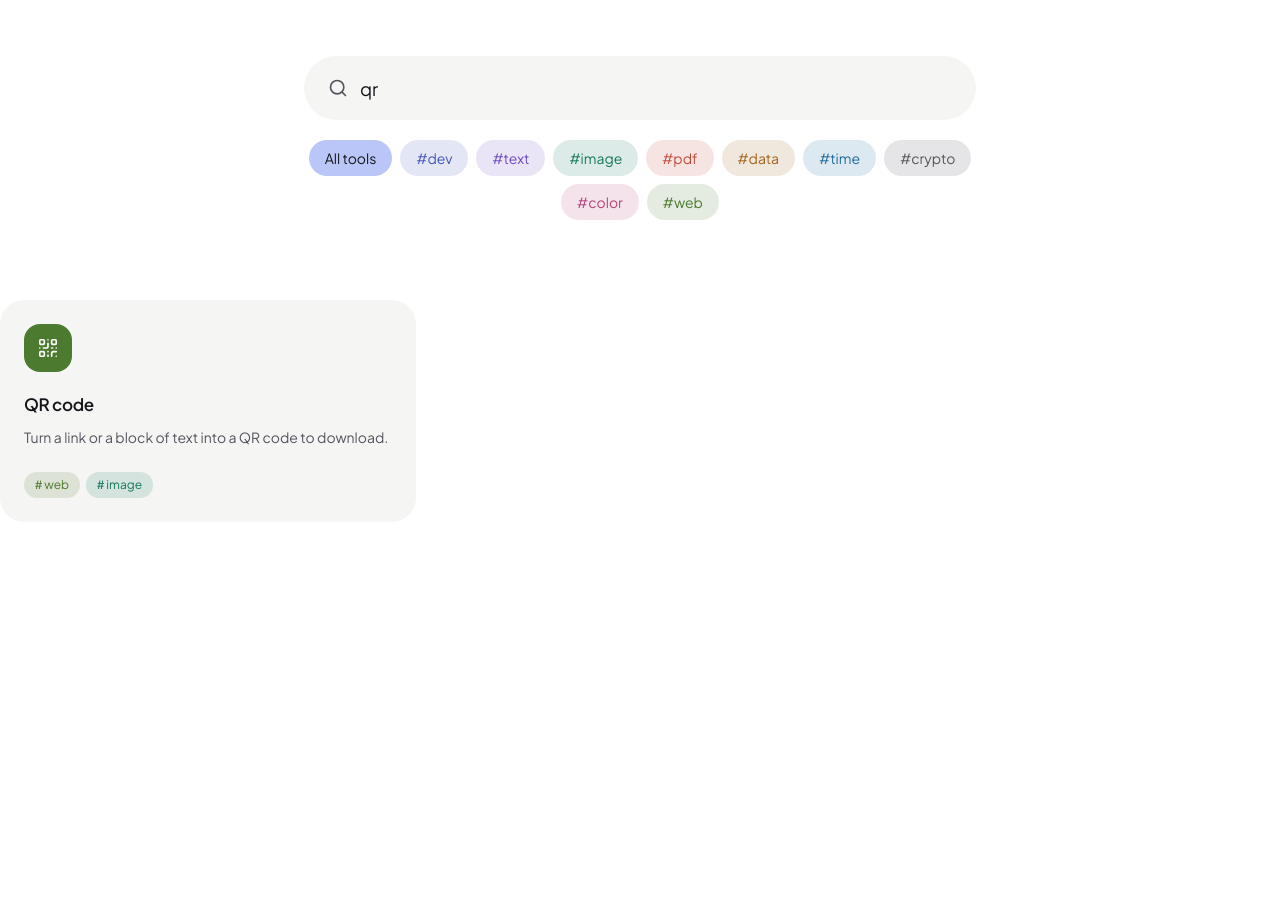
Test: <ToolExplorer /> › should clear the filter when the field is emptied and committed
Clear the dropdown named "Search tools": (640, 88) left=304, top=56, right=976, bottom=120
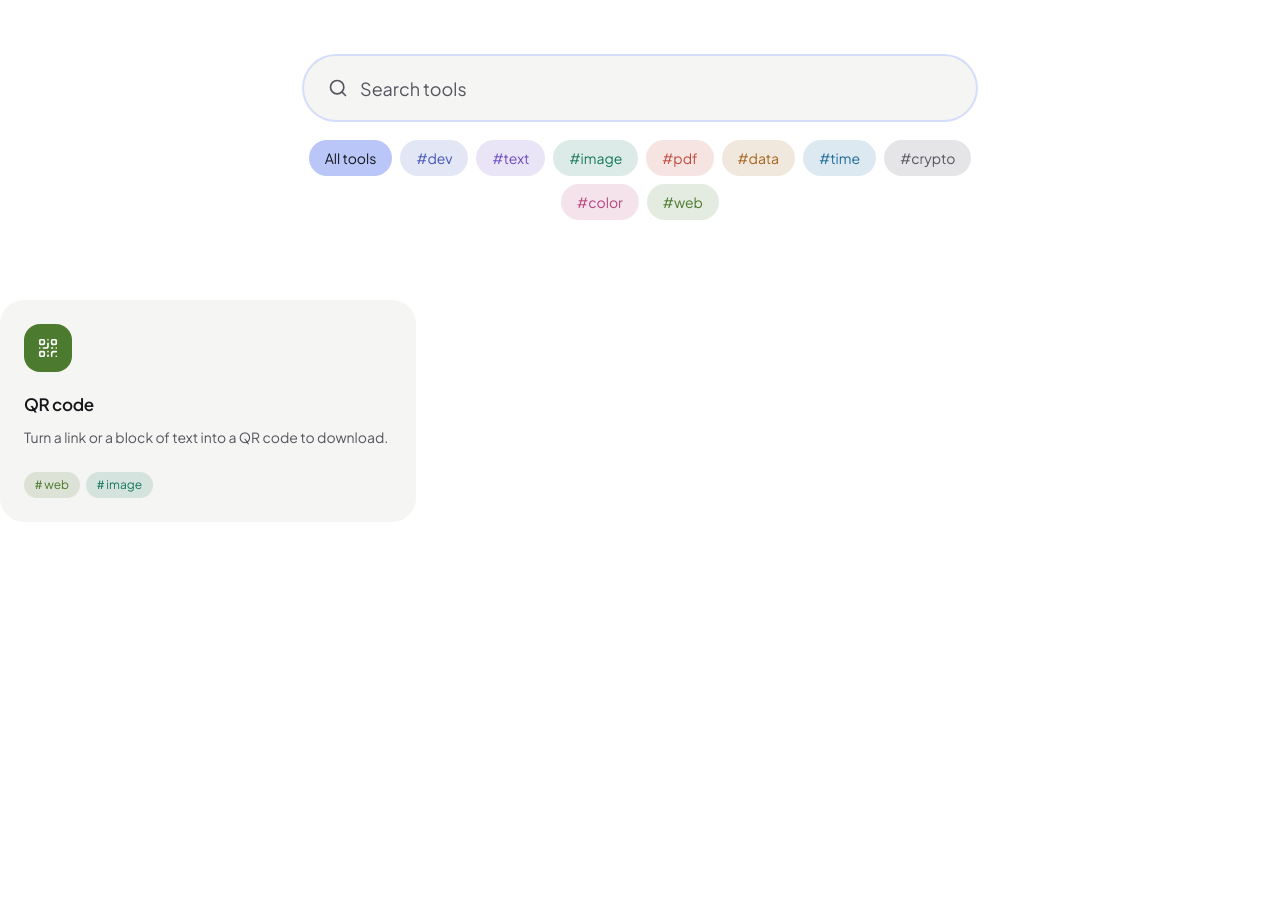
Press Enter
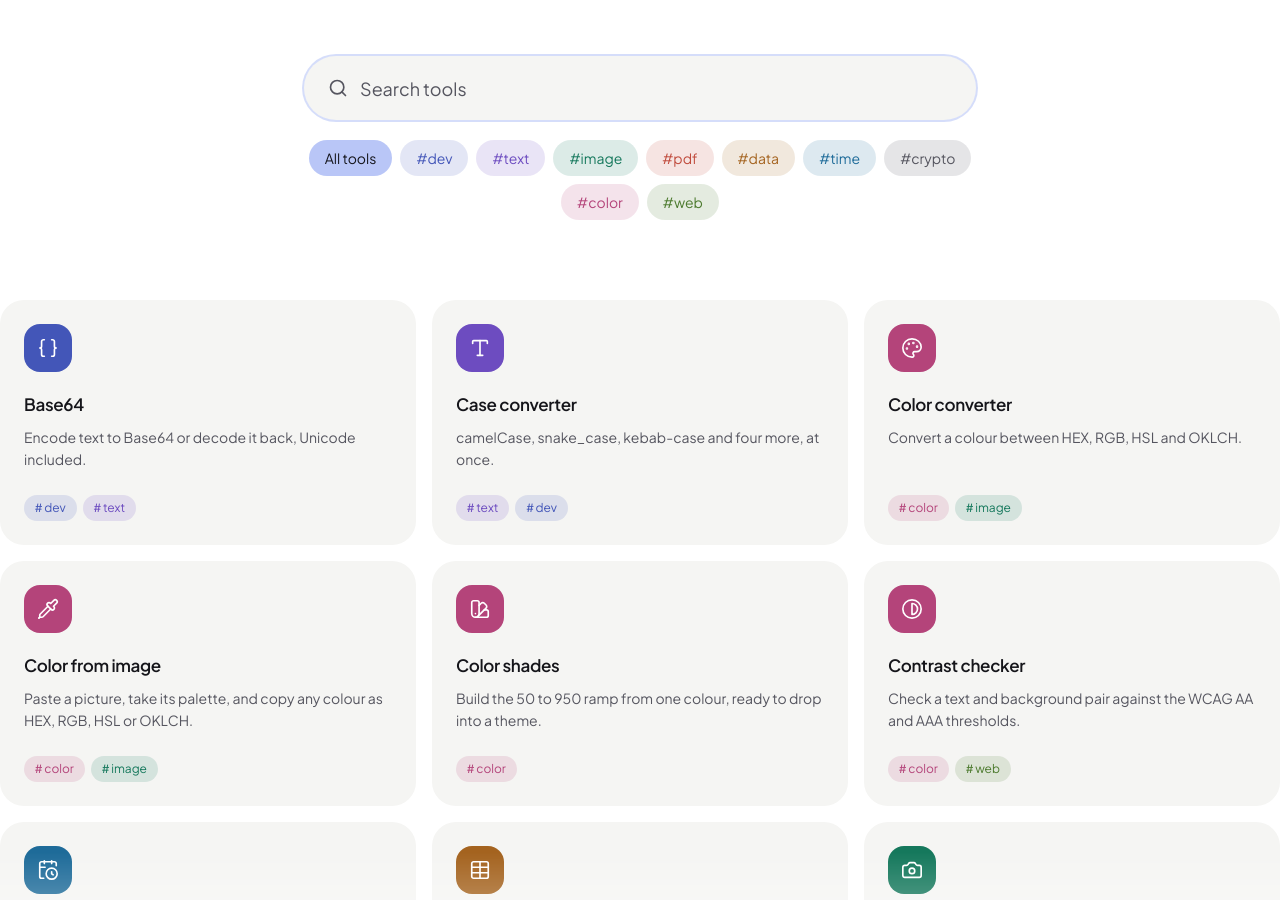
Check: the link "Case converter" is shown, box left=432, top=300, right=848, bottom=545
